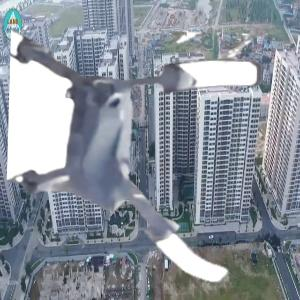drone: (8, 30, 274, 296)
